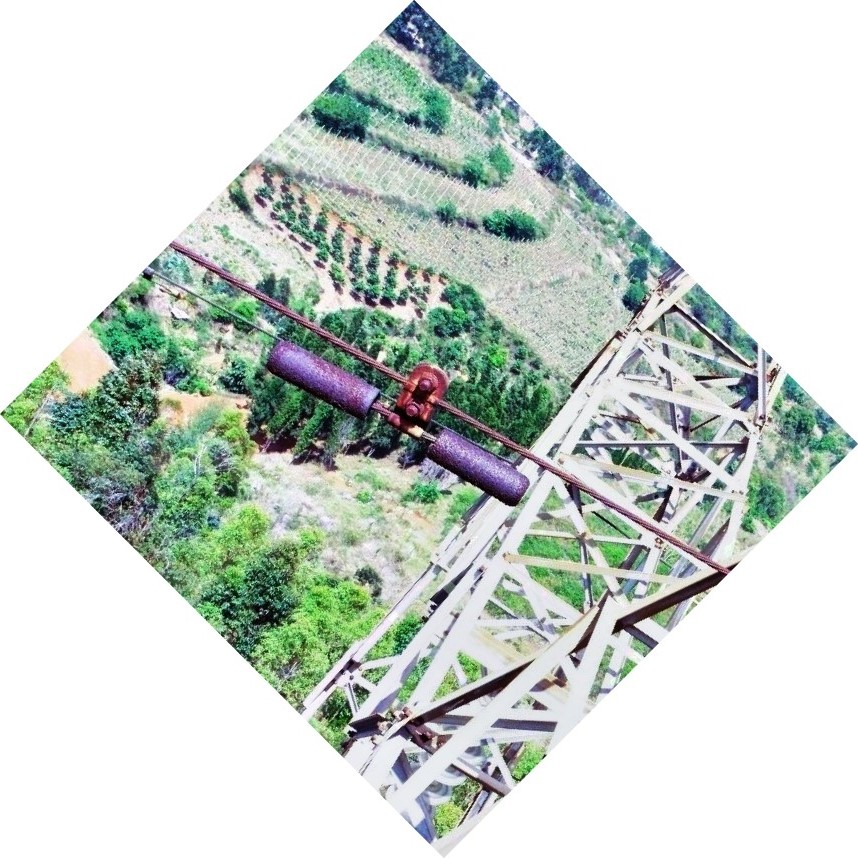Shockproof hammer: (256, 308, 539, 520)
